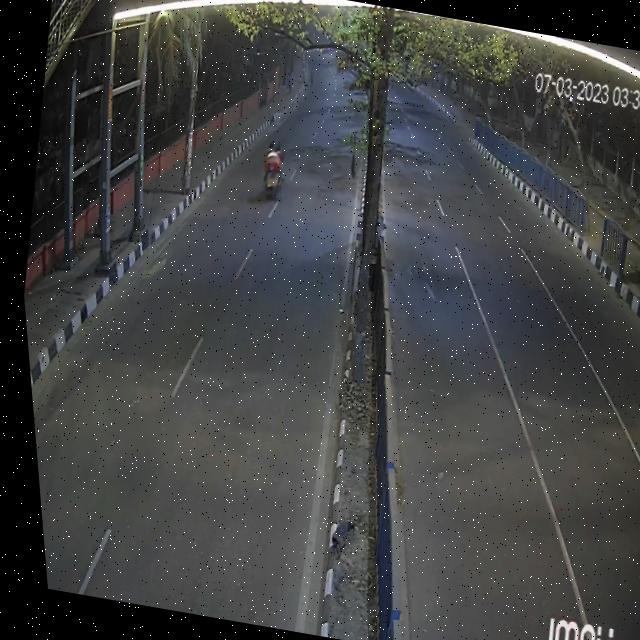rikshaw: (250, 140, 290, 204)
